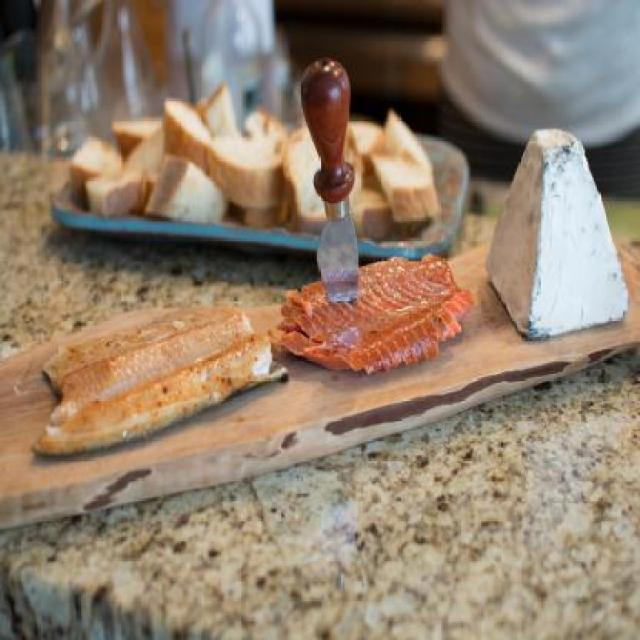Cheese: (484, 128, 632, 338)
